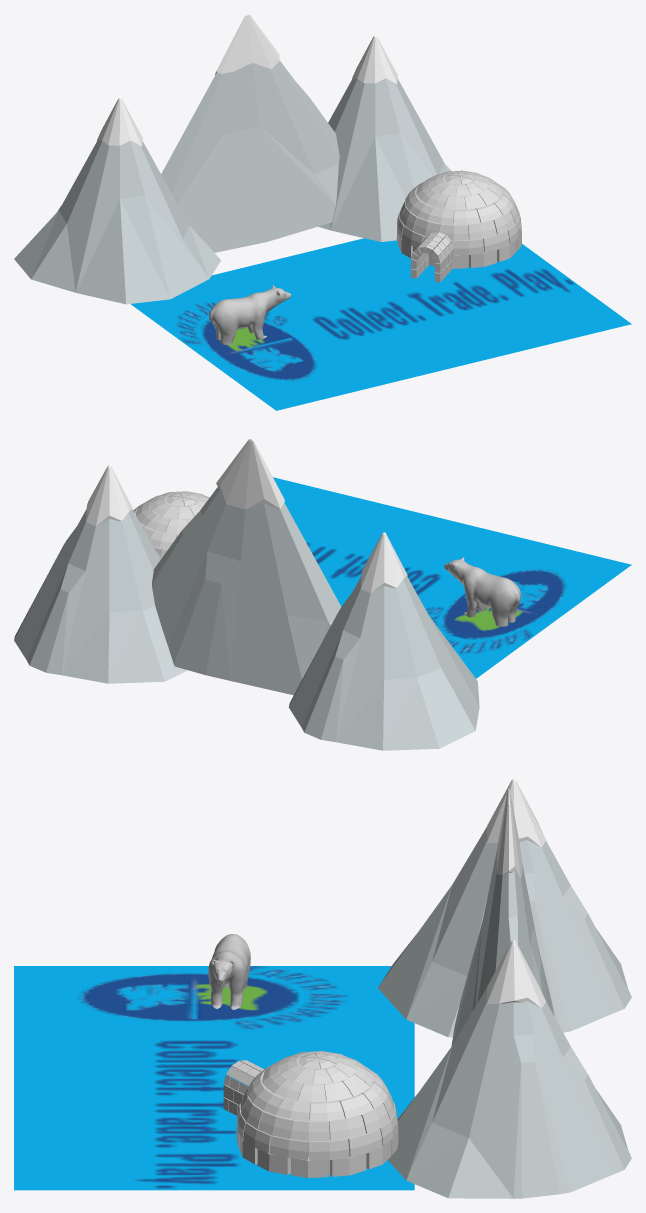
File: asset.glb
The picture shows the model from 3 angles, top to bottom: view 1: azimuth 30°, elevation 25°; view 2: azimuth 150°, elevation 25°; view 3: azimuth 270°, elevation 25°; orthographic projection. The views are drawn at different scales.
Visible parts, largest first — view 1: SquarePlane, Snow-capped Mountain 1, Snow-capped Mountain, Snow-capped Mountain 2, Igloo, Image Plane, 11053_PolarBear001; view 2: Snow-capped Mountain 1, Snow-capped Mountain, SquarePlane, Snow-capped Mountain 2, Image Plane, 11053_PolarBear001, Igloo; view 3: SquarePlane, Snow-capped Mountain 2, Snow-capped Mountain, Igloo, Image Plane, Snow-capped Mountain 1, 11053_PolarBear001.
Boxes of the visible parts, x1,y1,x2,y2 form: SquarePlane: (131, 238, 631, 410); Snow-capped Mountain 1: (161, 14, 339, 252); Snow-capped Mountain: (14, 97, 220, 304); Snow-capped Mountain 2: (318, 35, 451, 241); Igloo: (396, 170, 521, 282); Image Plane: (177, 269, 573, 380); 11053_PolarBear001: (209, 285, 291, 344); Snow-capped Mountain 1: (152, 439, 341, 695); Snow-capped Mountain: (288, 532, 479, 750); SquarePlane: (273, 477, 631, 678); Snow-capped Mountain 2: (14, 465, 187, 683); Image Plane: (307, 543, 565, 653); 11053_PolarBear001: (444, 557, 520, 626); Igloo: (133, 491, 209, 558); SquarePlane: (14, 966, 414, 1190); Snow-capped Mountain 2: (388, 940, 631, 1198); Snow-capped Mountain: (378, 779, 631, 1037); Igloo: (223, 1051, 398, 1177); Image Plane: (80, 966, 346, 1188); Snow-capped Mountain 1: (451, 788, 554, 1046); 11053_PolarBear001: (208, 934, 250, 1009).
Bounding box in the file's own units: 0.1561 × 0.0794 × 0.1542.
10 materials, 1 textured.
